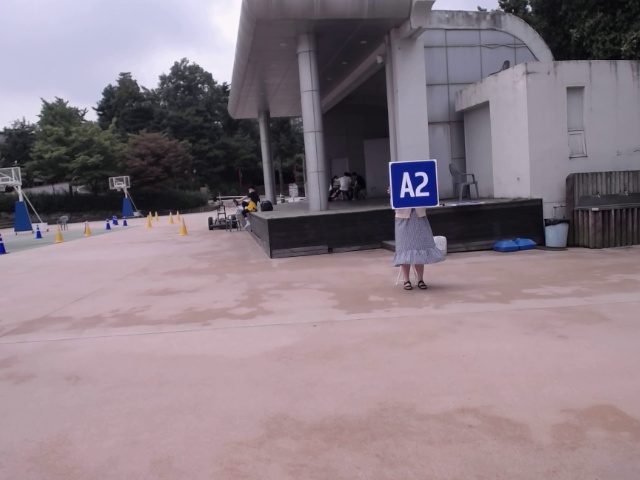delivery_a2: (390, 161, 439, 209)
